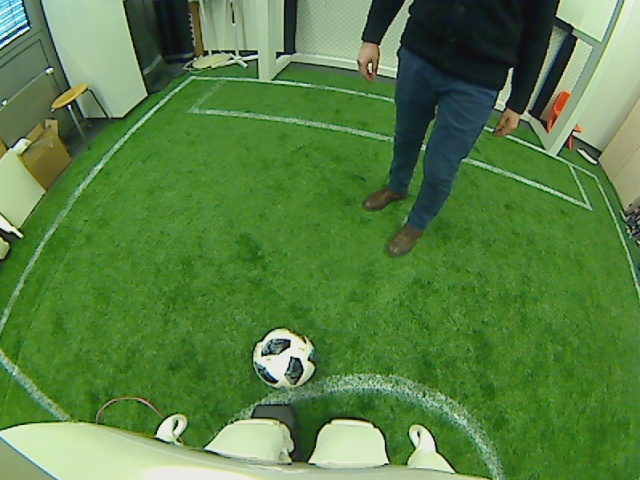ball: (252, 326, 316, 391)
